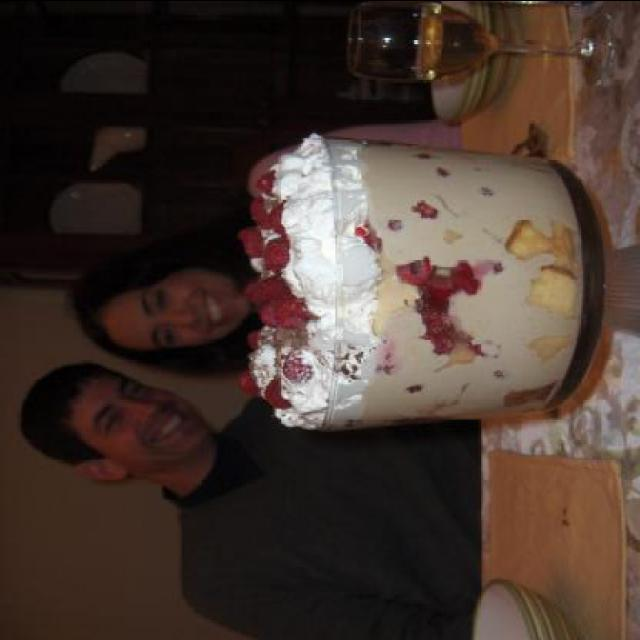Ice cream: (245, 138, 577, 430)
